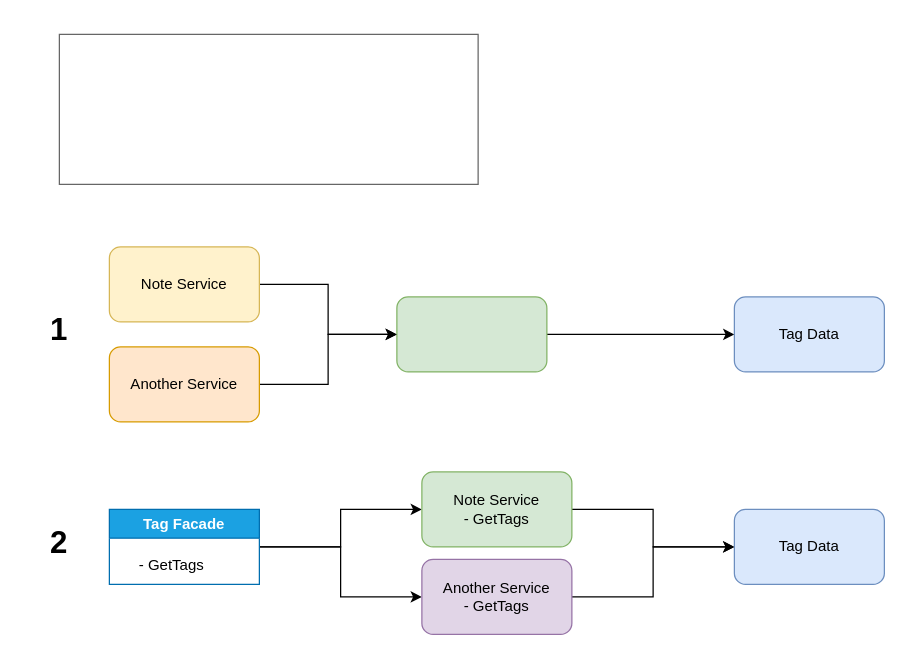
Some shapes in this 906 by 656 pixel diagram are drawn without their labels. The centre of each missing label's shape, as x and y in pixels:
Facade implementation 1: Violation 2: Solution: the point at 268,108
GetTag: the point at 471,334
